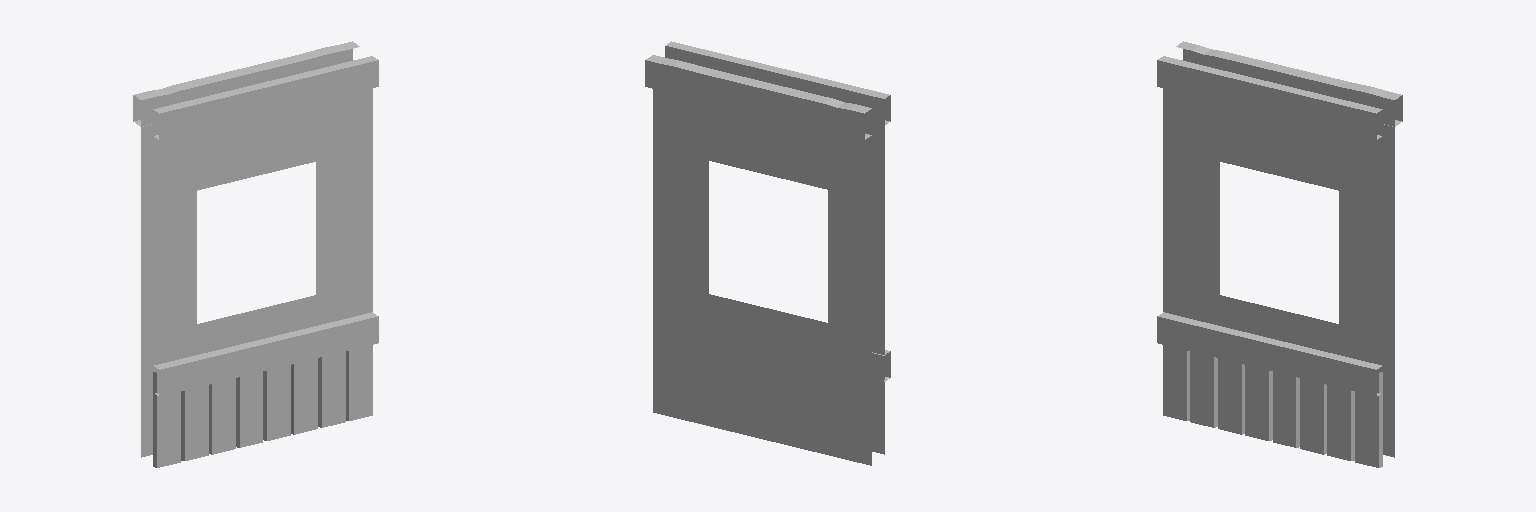
Rendered from Wall_WoodBrick_Window_Wide_Flat.obj.
The picture shows the model from 3 angles: view 1: azimuth 30°, elevation 25°; view 2: azimuth 150°, elevation 25°; view 3: azimuth 330°, elevation 25°; orthographic projection.
Parts seen in each view (by area): view 1: Wall_WoodBrick_Window_Wide_Flat; view 2: Wall_WoodBrick_Window_Wide_Flat; view 3: Wall_WoodBrick_Window_Wide_Flat.
Boxes of the visible parts, x1=… form: Wall_WoodBrick_Window_Wide_Flat: x1=133, y1=41, x2=378, y2=467; Wall_WoodBrick_Window_Wide_Flat: x1=645, y1=41, x2=890, y2=465; Wall_WoodBrick_Window_Wide_Flat: x1=1157, y1=41, x2=1402, y2=467.
Size of the model in its own units: 2 by 3.12 by 0.4065.